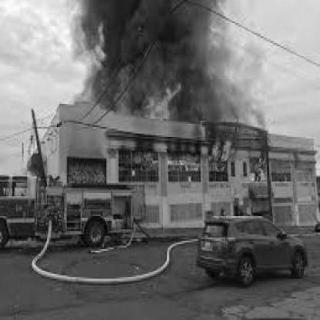Fire: (248, 150, 266, 178)
